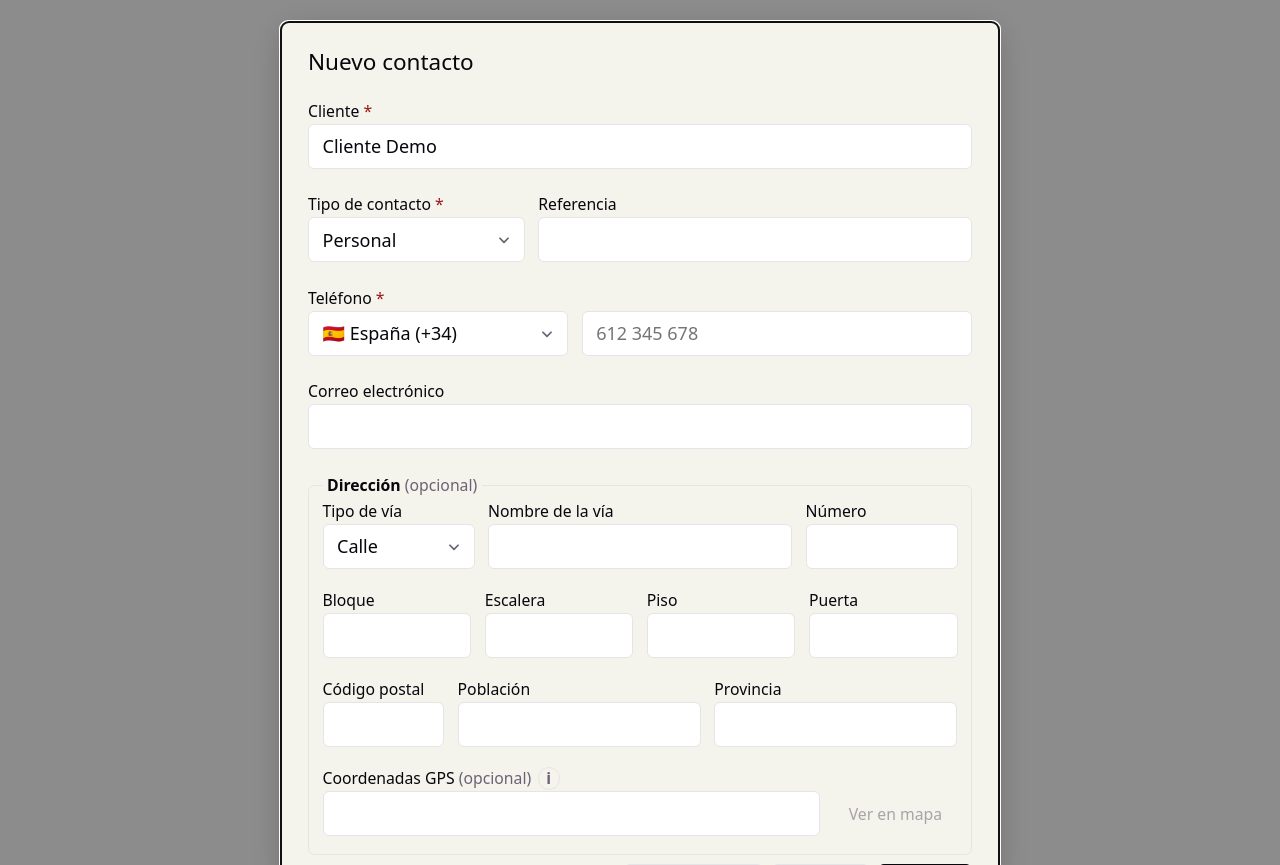
it: ContactFormModal field errors › maps a 409 API phoneNumber error under the phone field
In the field labelled "Teléfono *": (777, 333) [582,311,972,356], type "612345678"
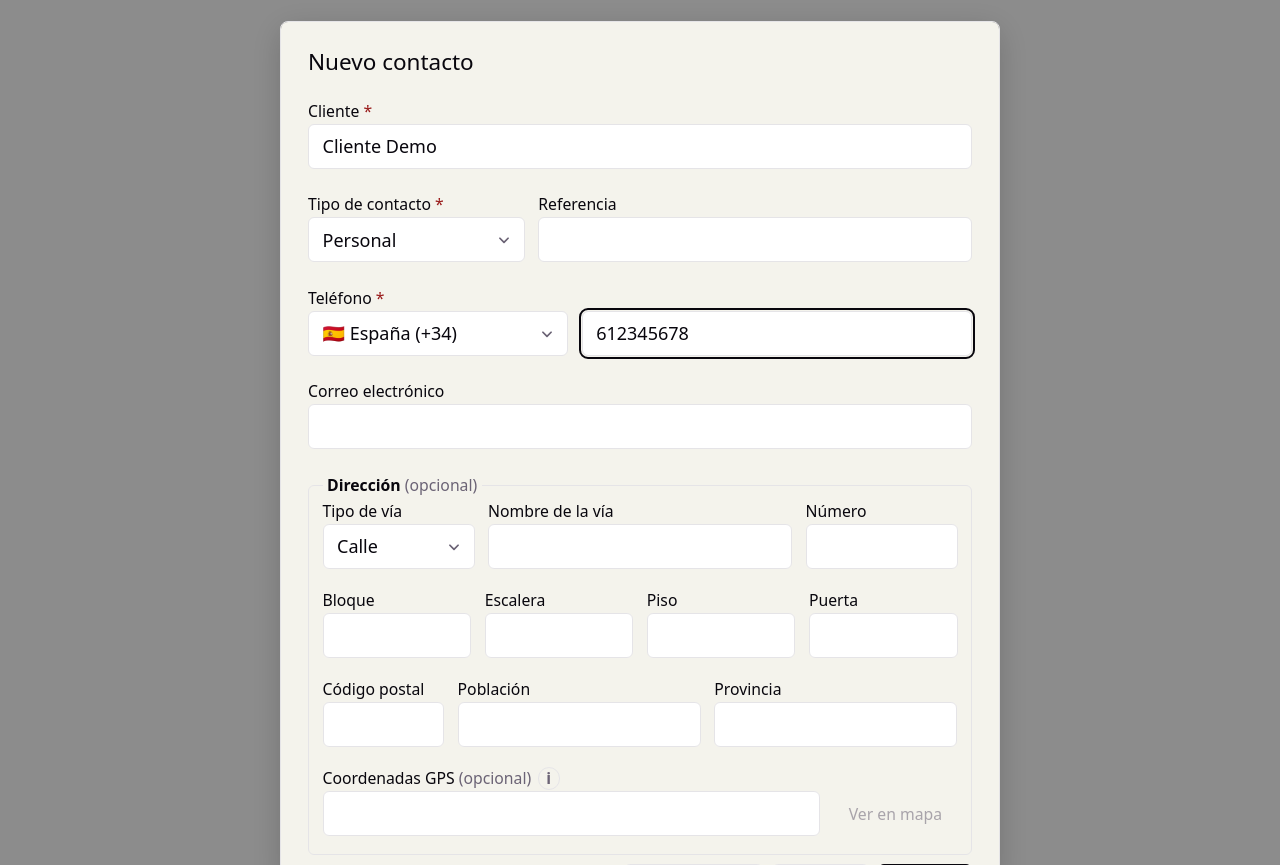
Click the field labelled "Referencia": (755, 240) [538,217,972,262]
(page scrolled)
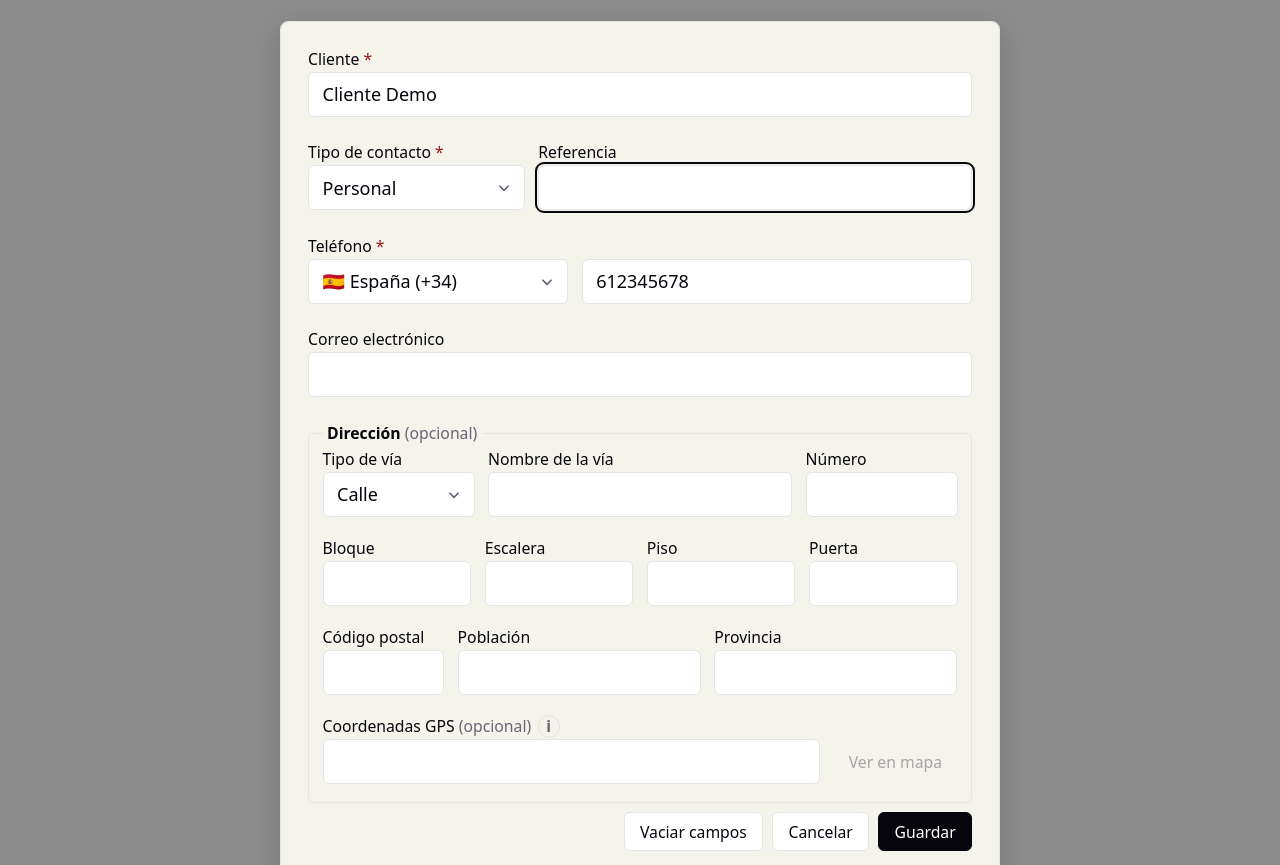
Click the button "Guardar": (925, 832) [878,812,972,851]
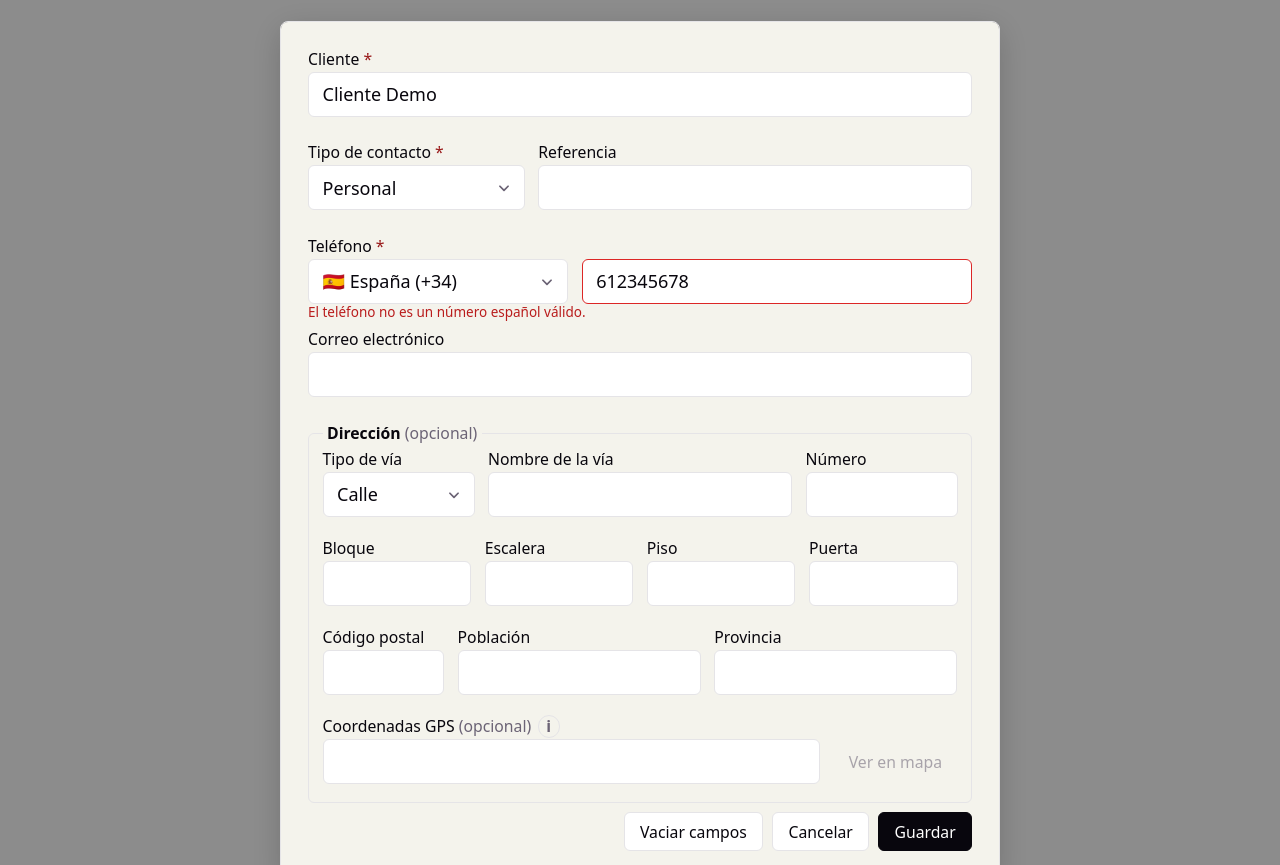
Expected: the element labelled "Teléfono * El teléfono no es un número español válido." is shown, [308,233,972,322]
Expected: the text "El teléfono no es un número español válido." is shown, [308,303,586,321]
